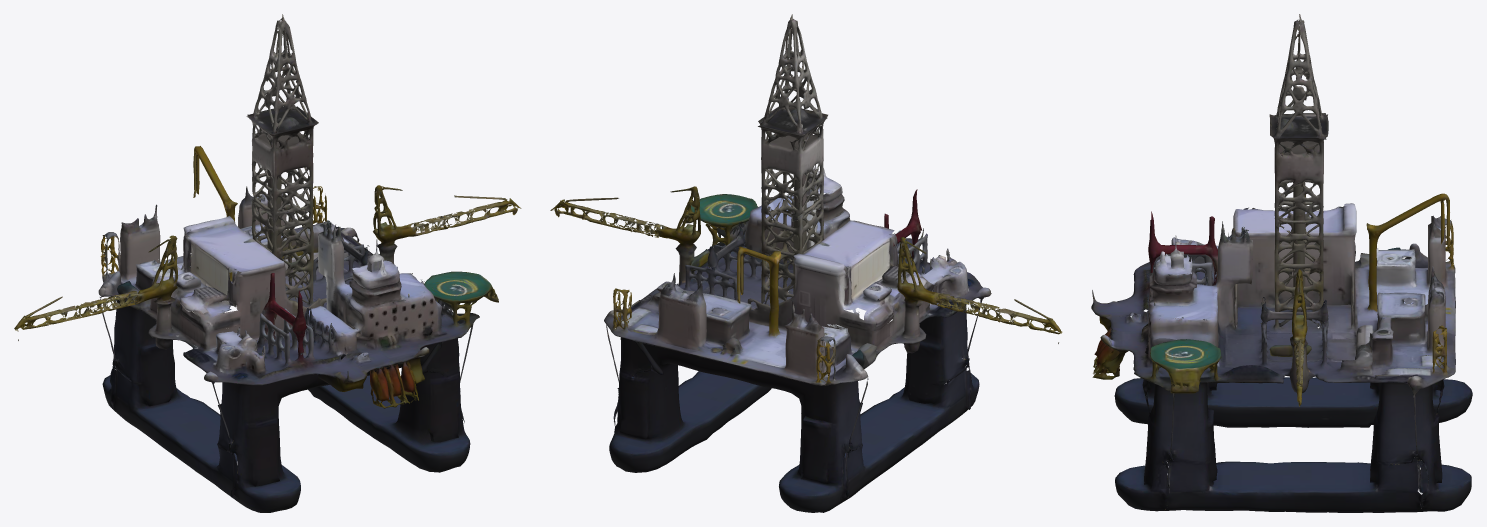
File: offshore.glb
The picture shows the model from 3 angles, left to right: view 1: azimuth 30°, elevation 25°; view 2: azimuth 150°, elevation 25°; view 3: azimuth 270°, elevation 25°; orthographic projection. The views are drawn at different scales.
Visible parts, largest first — view 1: tripo_node_5677491b; view 2: tripo_node_5677491b; view 3: tripo_node_5677491b.
Part boxes in pixels (x1,y1,x2,y2): tripo_node_5677491b: (14, 14, 521, 512); tripo_node_5677491b: (550, 14, 1062, 512); tripo_node_5677491b: (1091, 14, 1472, 512).
Size of the model in its own units: 96.94 by 76.5 by 59.75.
Materials: 1 (1 with a texture image).
